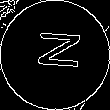N_W: (28, 33, 82, 77)
